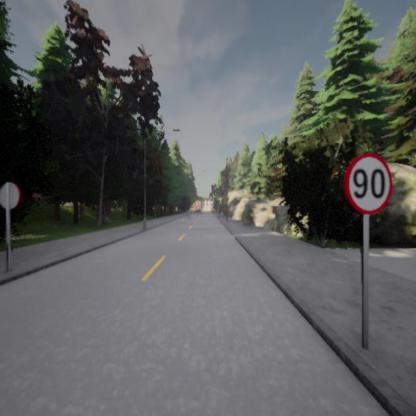traffic_sign_90: (344, 152, 392, 215)
